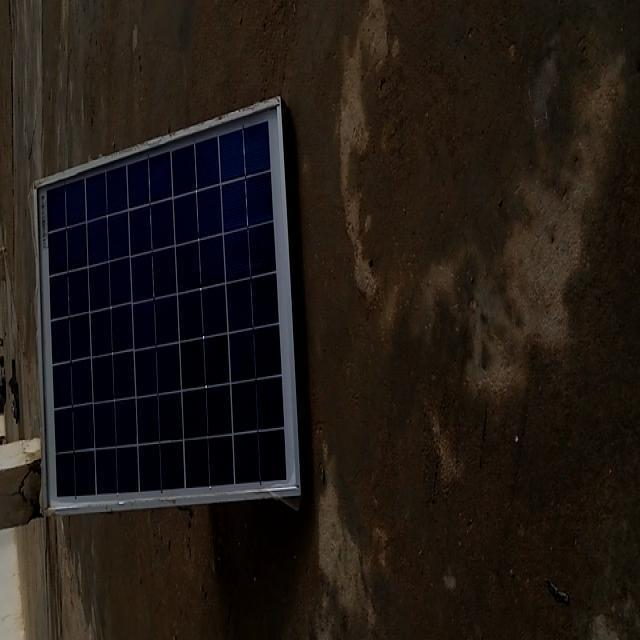Normal Solar Panel: (36, 97, 301, 512)
